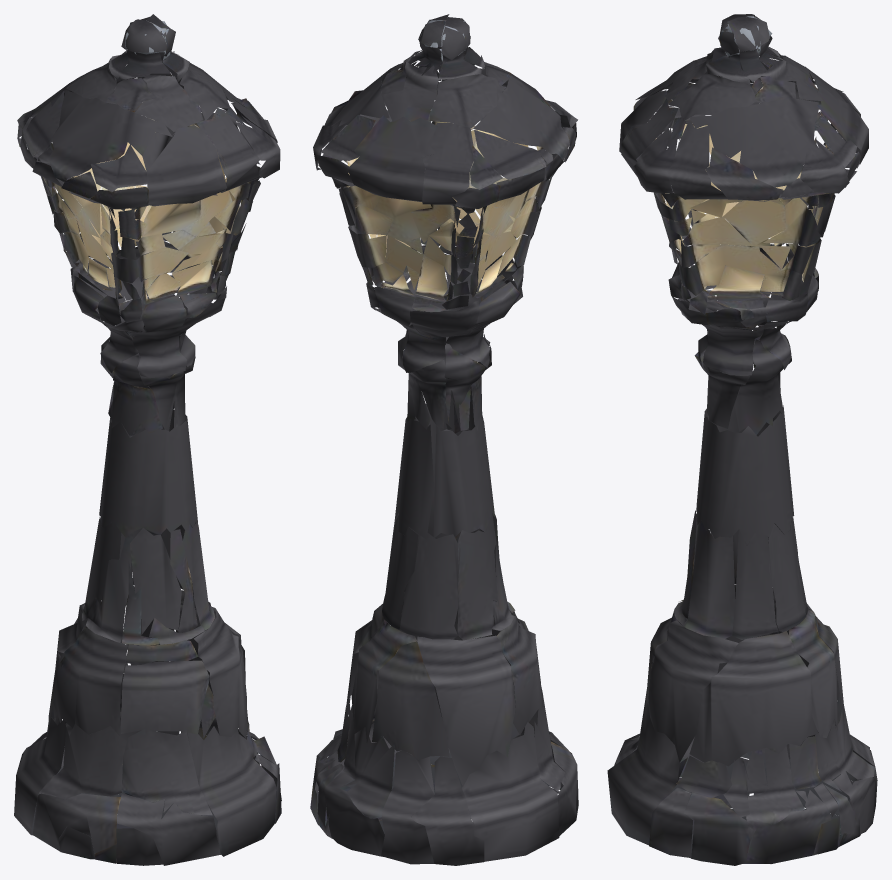
The model's file is lamp.glb.
3 renders of one model, left to right at view 1: azimuth 30°, elevation 25°; view 2: azimuth 150°, elevation 25°; view 3: azimuth 270°, elevation 25°, orthographic.
Parts seen in each view (by area): view 1: Mesh_0; view 2: Mesh_0; view 3: Mesh_0.
Part boxes in pixels (x1,y1,x2,y2): Mesh_0: (14,14,281,865); Mesh_0: (310,14,578,865); Mesh_0: (607,14,877,865).
Bounding box in the file's own units: 0.5821 × 1.91 × 0.5884.
1 material, 1 textured.
